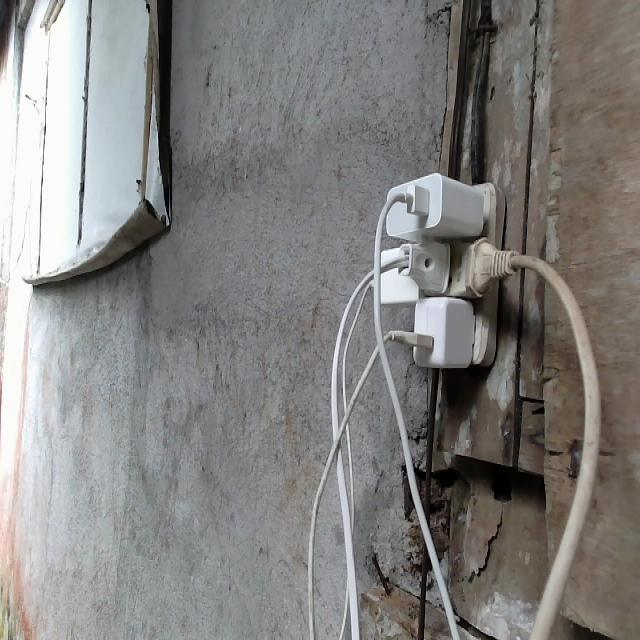-: (365, 168, 508, 372)
